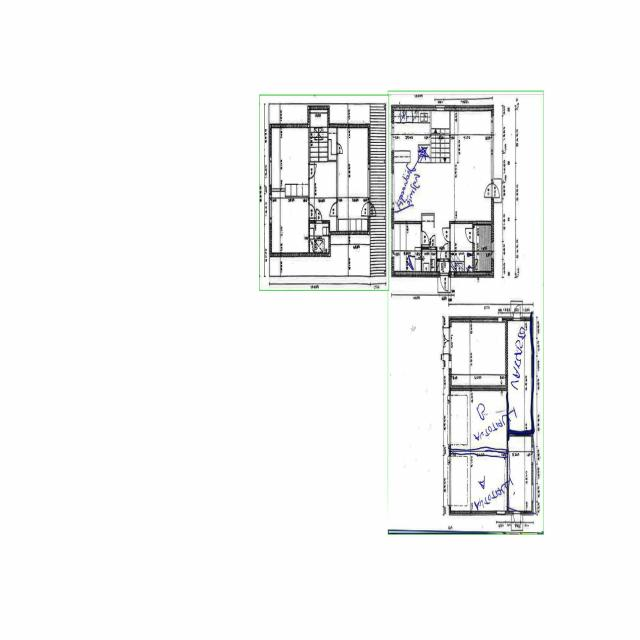door: (491, 184, 501, 198), (484, 184, 494, 198), (441, 272, 448, 292), (441, 243, 448, 262), (442, 341, 452, 354), (442, 328, 452, 341), (513, 303, 520, 321), (442, 228, 451, 242), (368, 203, 377, 216), (361, 203, 370, 216), (466, 228, 474, 242), (421, 231, 429, 245), (308, 204, 316, 218), (308, 164, 316, 178), (514, 510, 520, 528), (330, 202, 338, 215), (429, 235, 435, 249), (316, 209, 322, 223), (337, 144, 342, 153)
